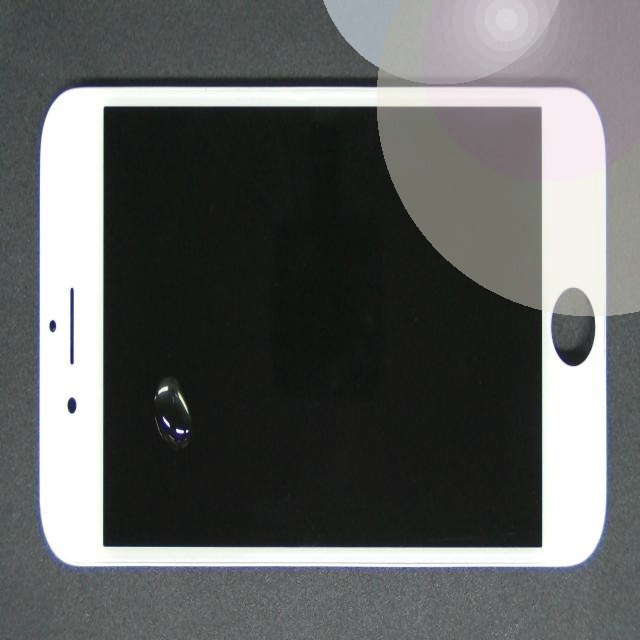oil: (112, 230, 283, 603)
